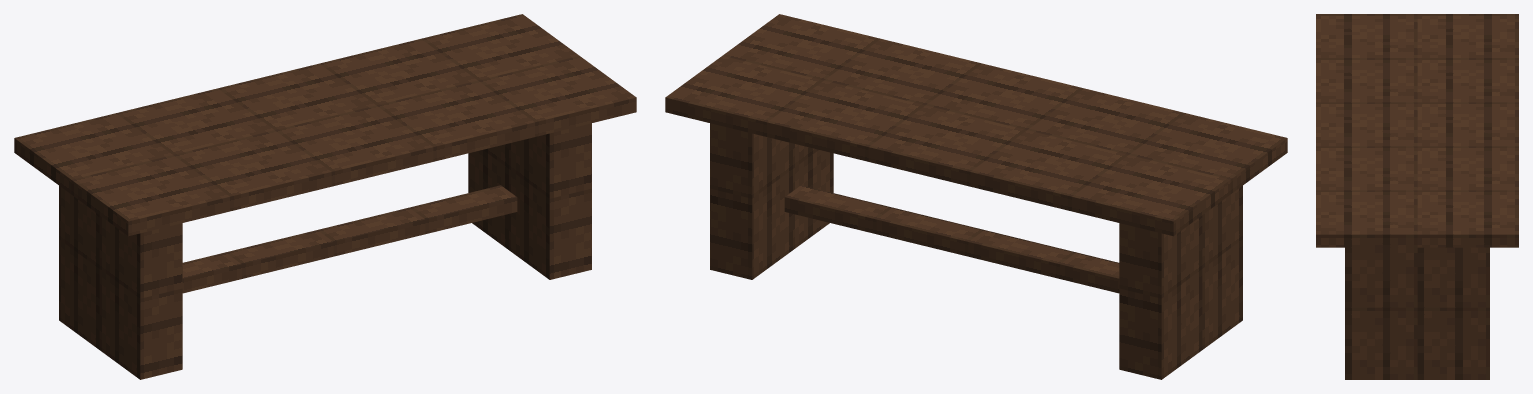
The model's file is diningTable_3.glb.
3 renders of one model, left to right at view 1: azimuth 30°, elevation 25°; view 2: azimuth 150°, elevation 25°; view 3: azimuth 270°, elevation 25°, orthographic. The views are drawn at different scales.
Visible parts, largest first — view 1: diningTable_3; view 2: diningTable_3; view 3: diningTable_3.
Boxes of the visible parts, bbox=[...] form: diningTable_3: bbox=[14, 14, 636, 379]; diningTable_3: bbox=[665, 14, 1287, 379]; diningTable_3: bbox=[1316, 14, 1518, 379].
Size of the model in its own units: 2.25 by 0.75 by 0.875.
1 material, 1 textured.
